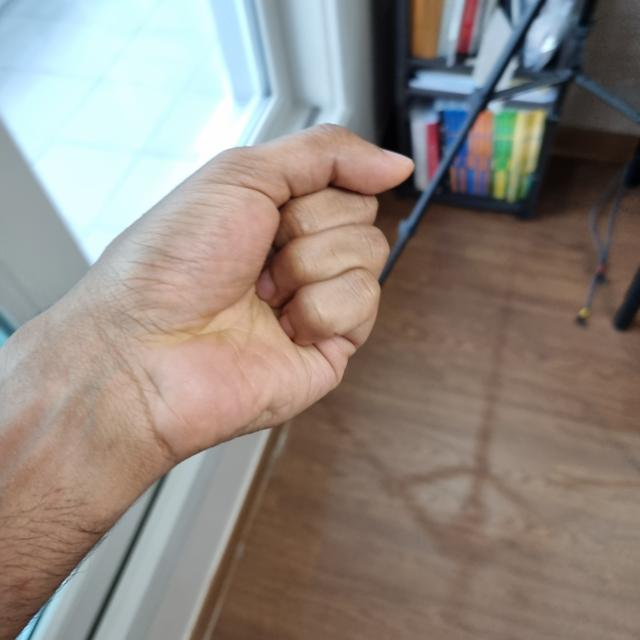Rock: (27, 124, 415, 462)
